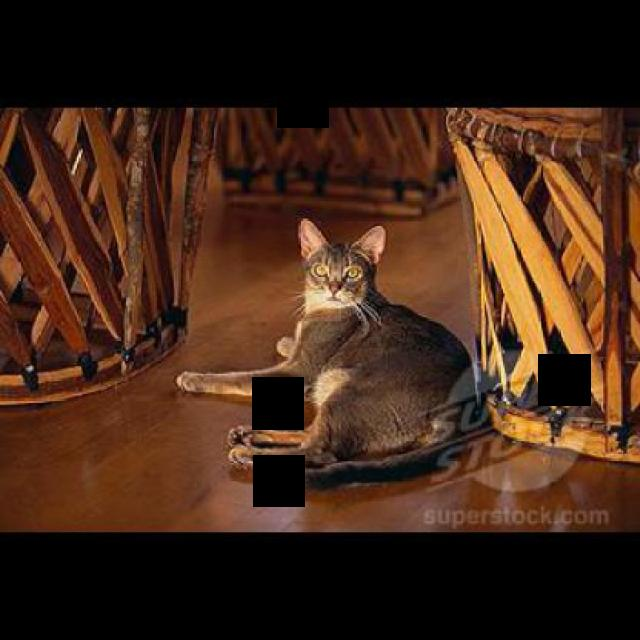unauthorized: (174, 217, 472, 489)
